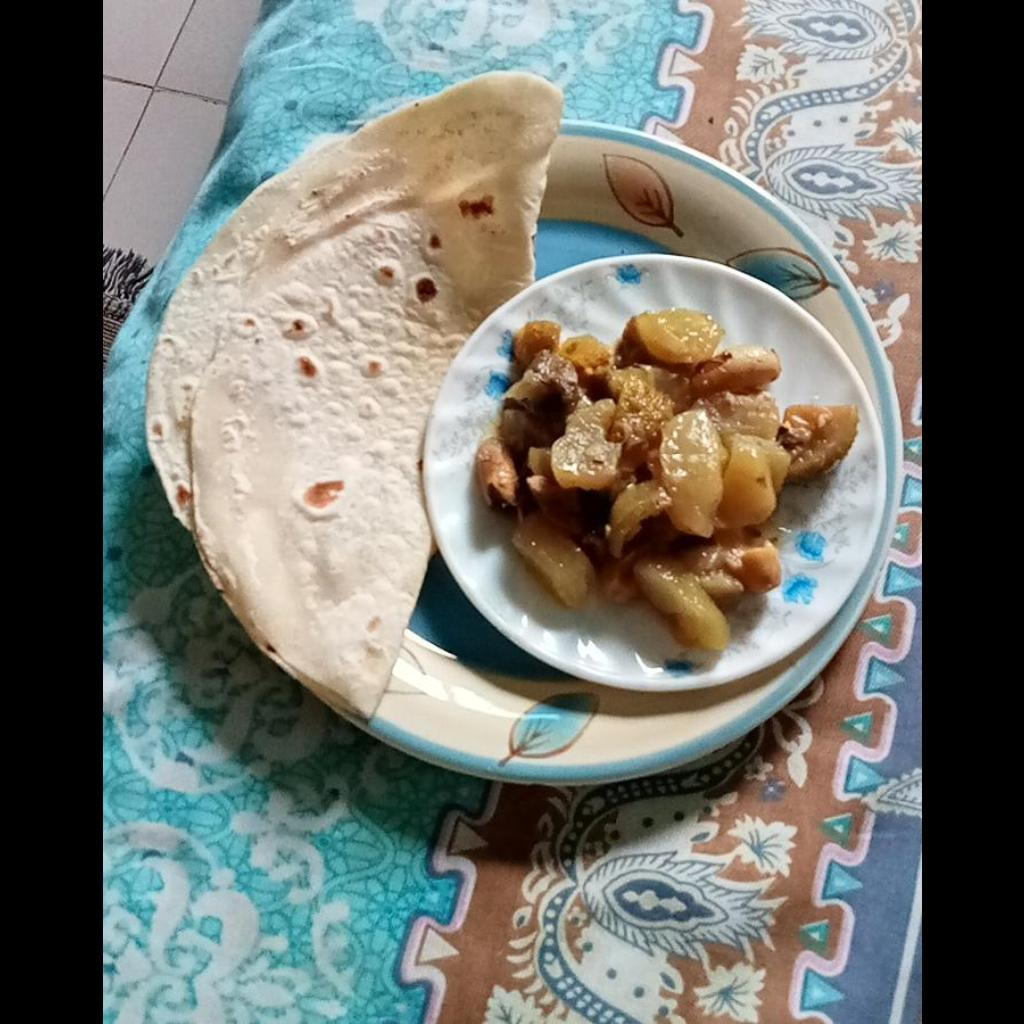ruti: (140, 77, 563, 721)
vegetable: (478, 305, 857, 651)
